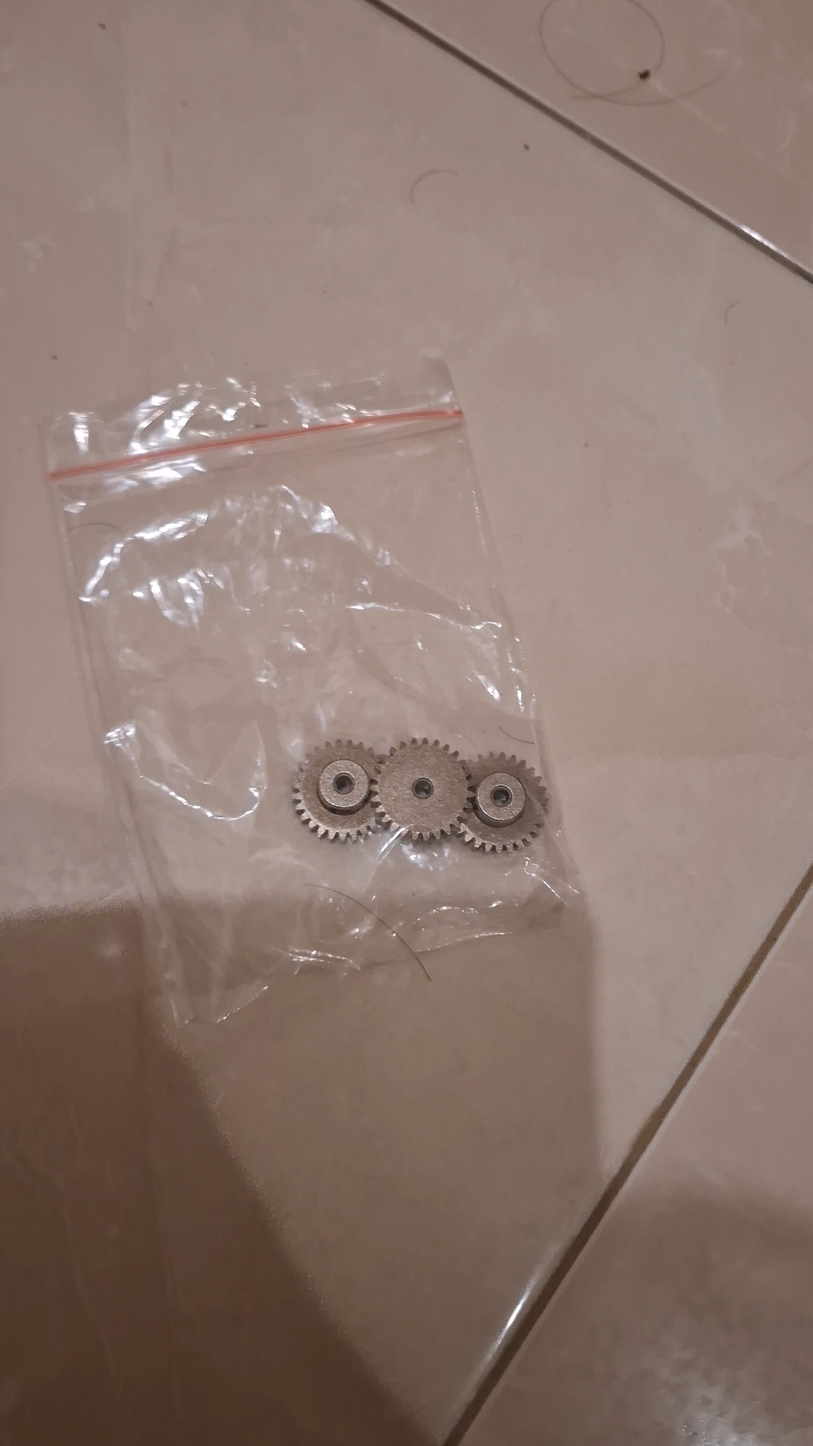spur gear: (289, 738, 391, 842), (450, 751, 553, 850), (373, 738, 472, 840)
